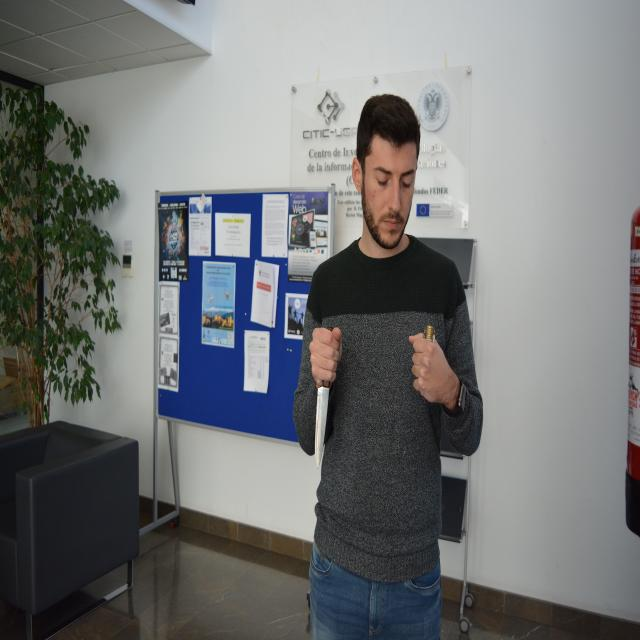knife: (314, 383, 330, 474)
